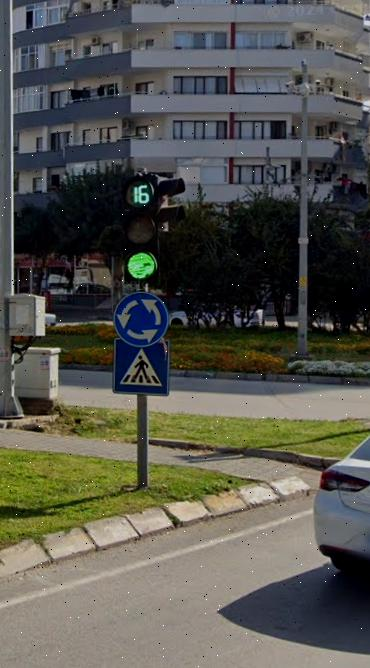crossroads: (113, 291, 168, 346)
greenlight: (124, 175, 159, 283)
